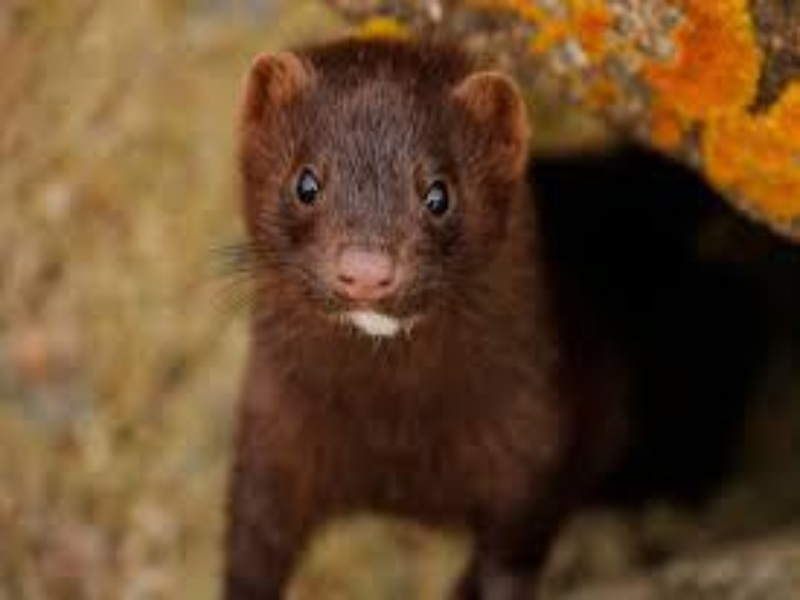minkish: (219, 38, 788, 592)
